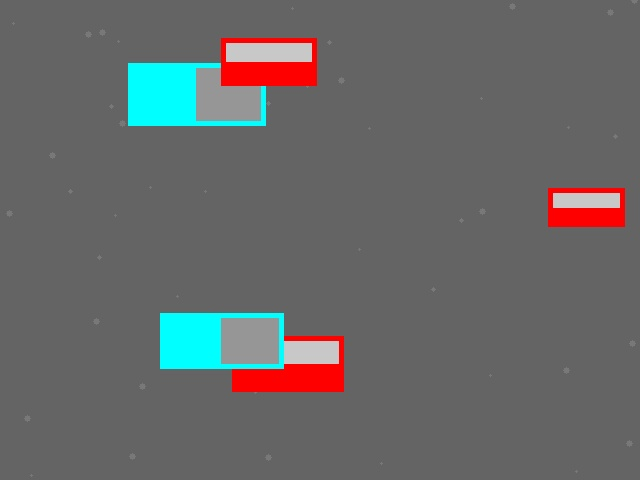car: (232, 336, 343, 391), (221, 38, 316, 85), (548, 188, 624, 226)
truck: (128, 63, 265, 125), (160, 313, 283, 368)
